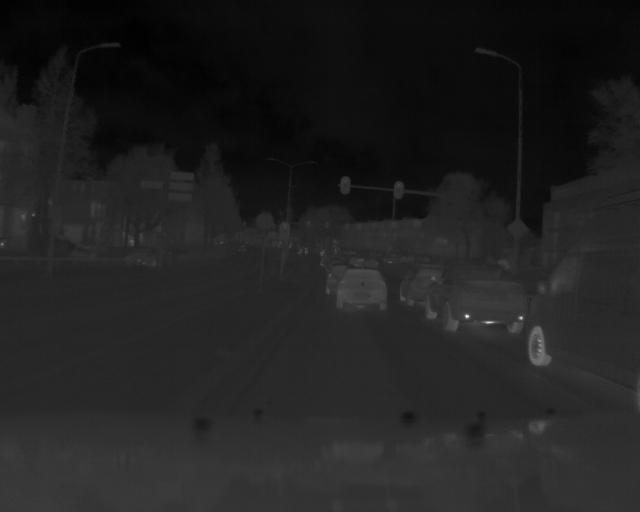car: (522, 241, 640, 385), (422, 265, 527, 334), (331, 265, 392, 314), (396, 264, 449, 310)
